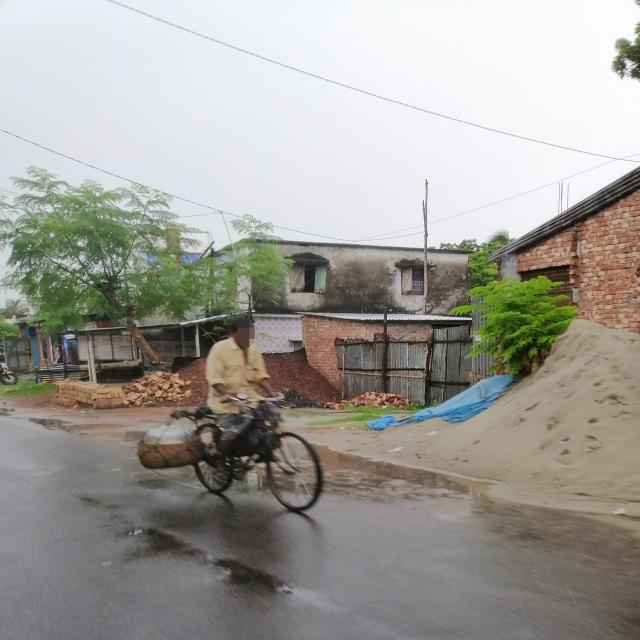Bicycle: (157, 376, 329, 514)
